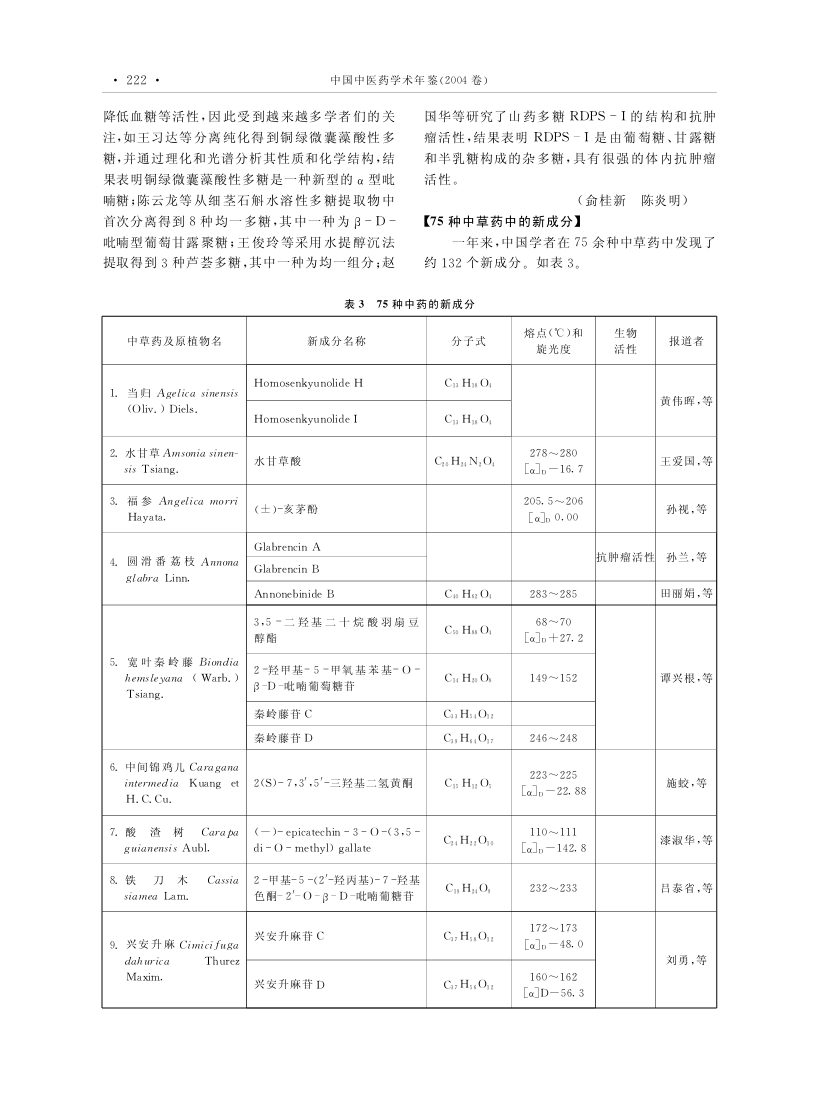table: (101, 315, 717, 1009)
